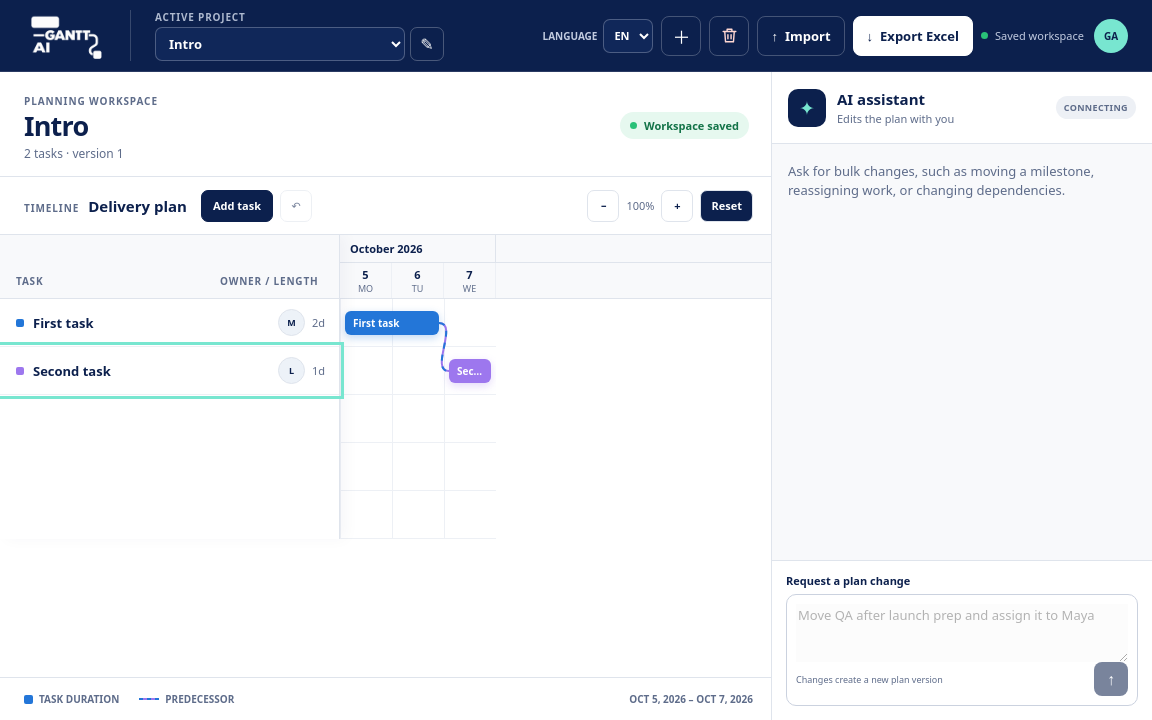
Test case: plan view › opens from labels and bars, saves one complete edit, and restores focus
Press Enter
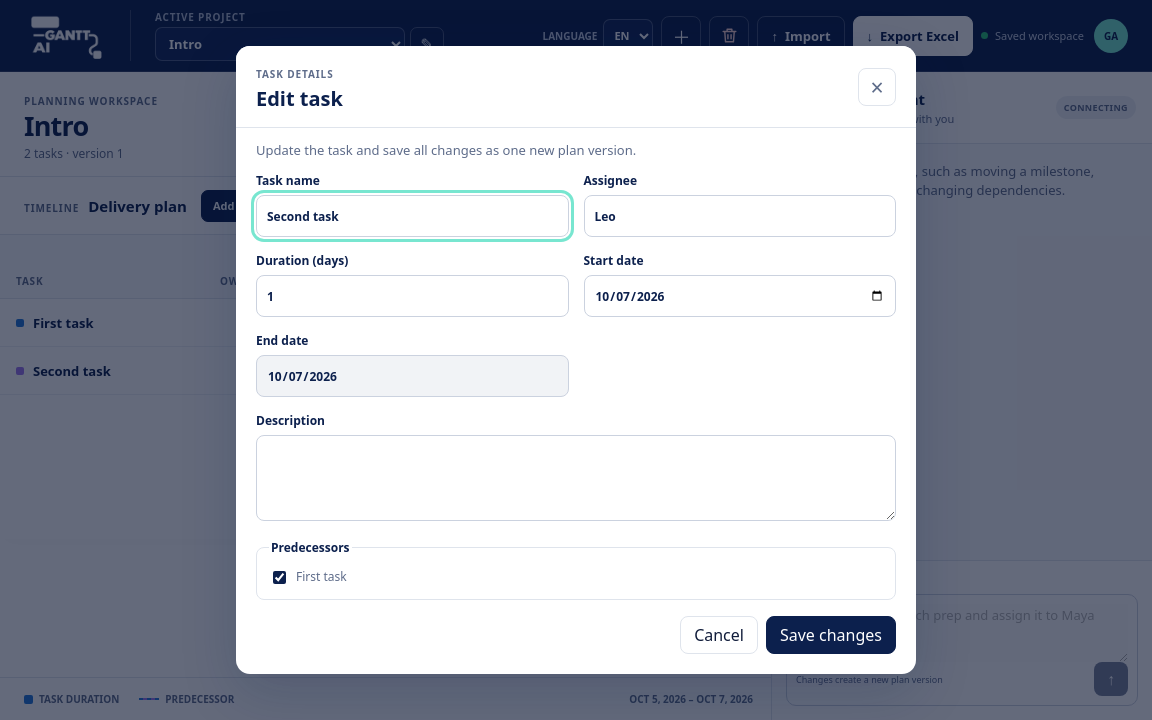
Now the dialog is shown, box x1=236 y1=46 x2=916 y2=674
Now the checkbox labelled "First task" is checked, box x1=273 y1=571 x2=286 y2=584
Replace the text in the field labelled "Task name" with "Updated task" at (412,216), box x1=256 y1=195 x2=568 y2=237
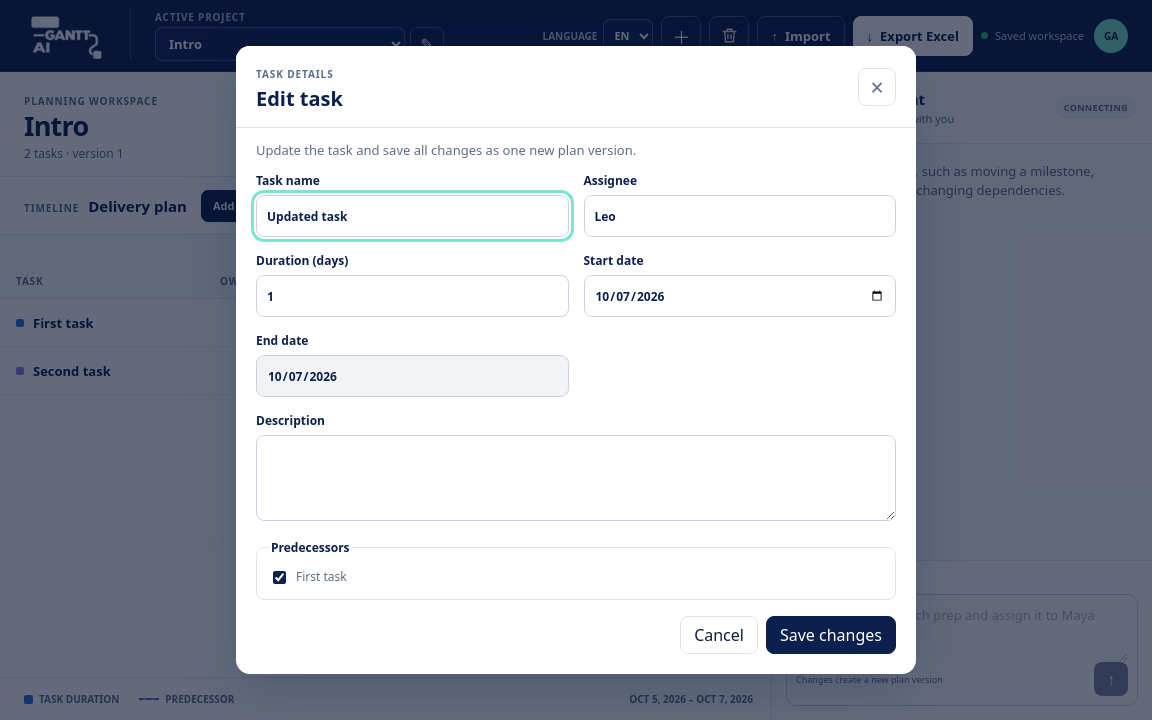
Type "More detail" into the text box labelled "Description" at (576,478), box x1=256 y1=435 x2=896 y2=521
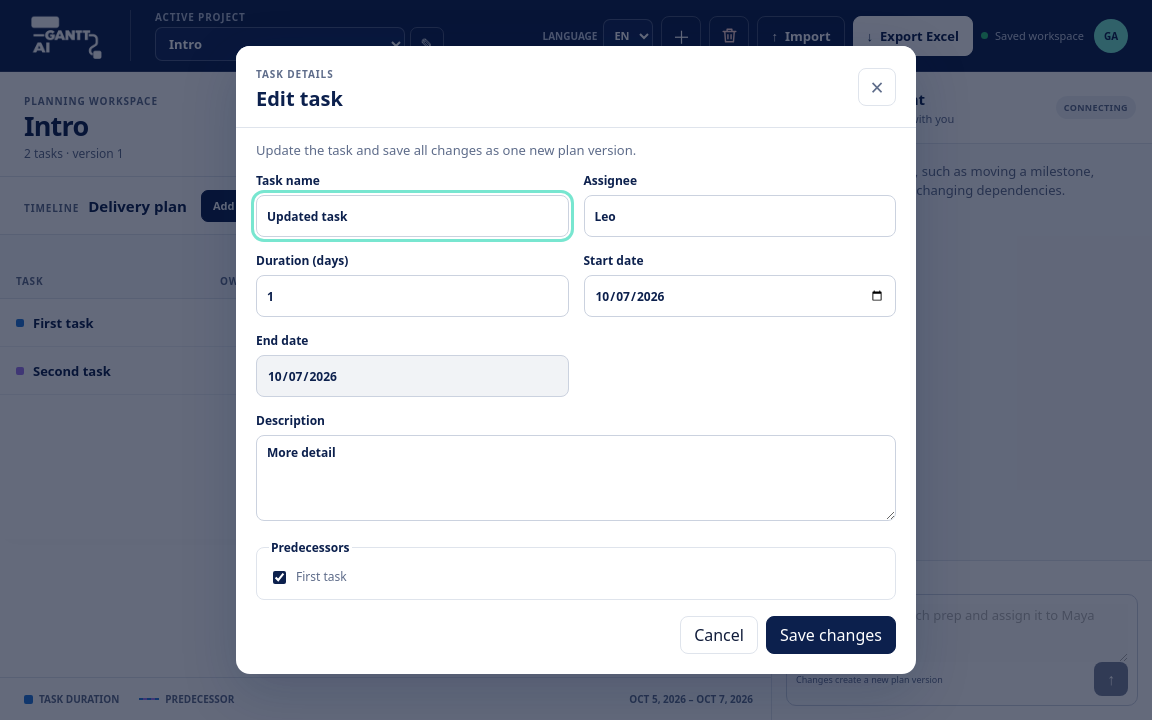
Replace the text in the field labelled "Assignee" with "Priya" at (740,216), box x1=584 y1=195 x2=896 y2=237
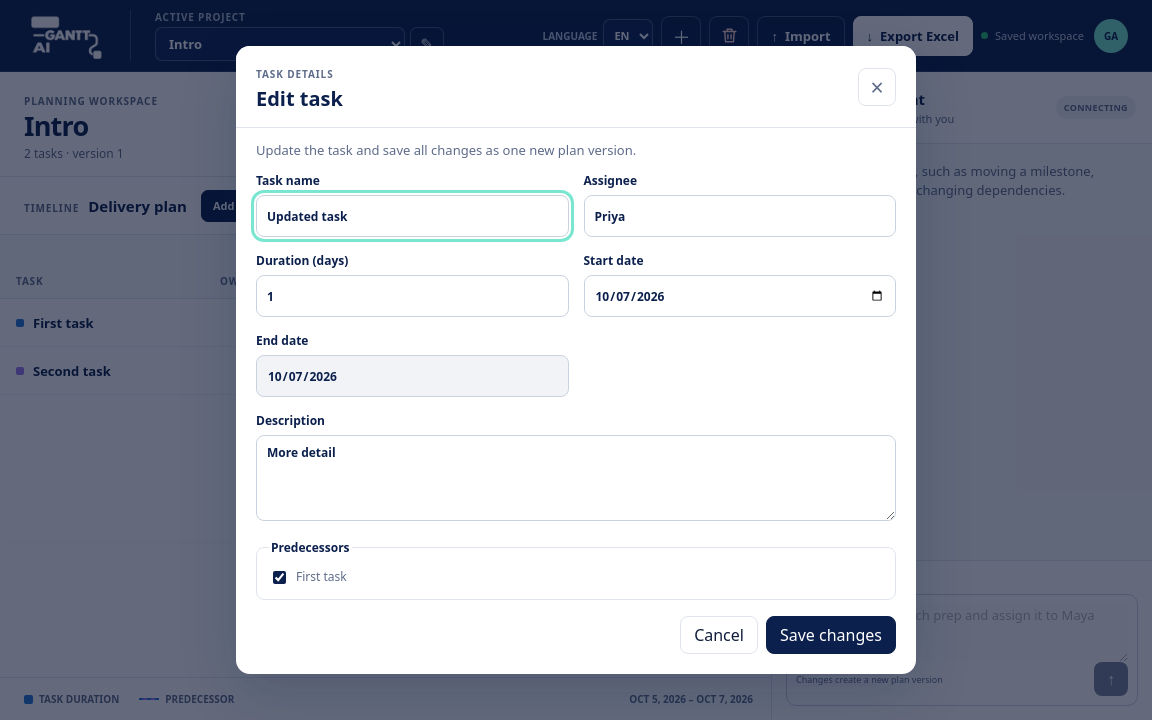
Click the button "Save changes" at (831,635), box x1=766 y1=616 x2=896 y2=654
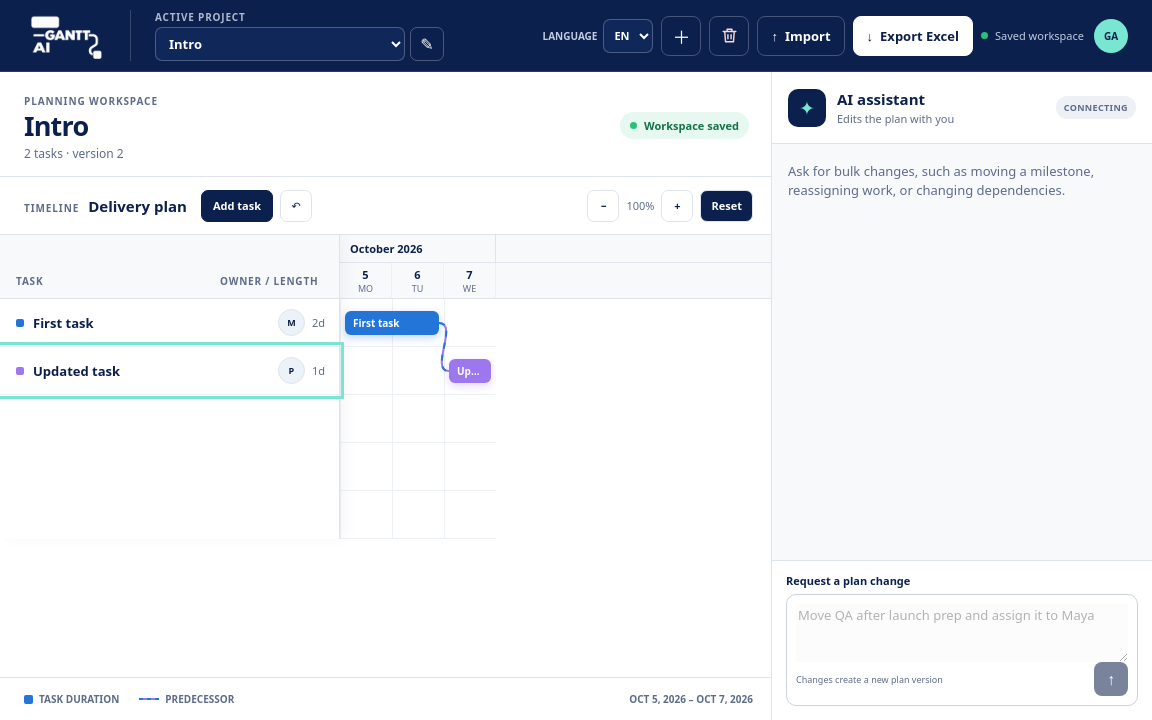
Now the text "Updated task" below "Owner / length" is shown, box x1=33 y1=362 x2=120 y2=380
Now the dialog is gone
Click the button with aria-label "Edit Updated task timeline bar" at (470,371), box x1=449 y1=359 x2=491 y2=383
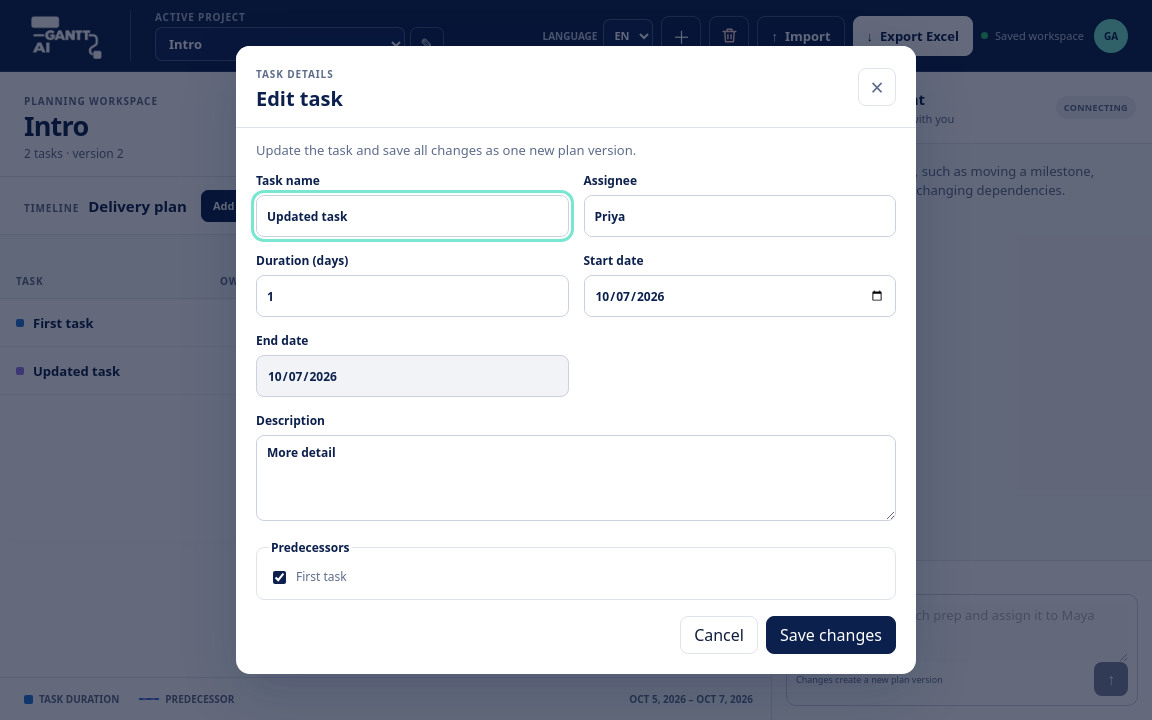
Now the dialog is shown, box x1=236 y1=46 x2=916 y2=674
